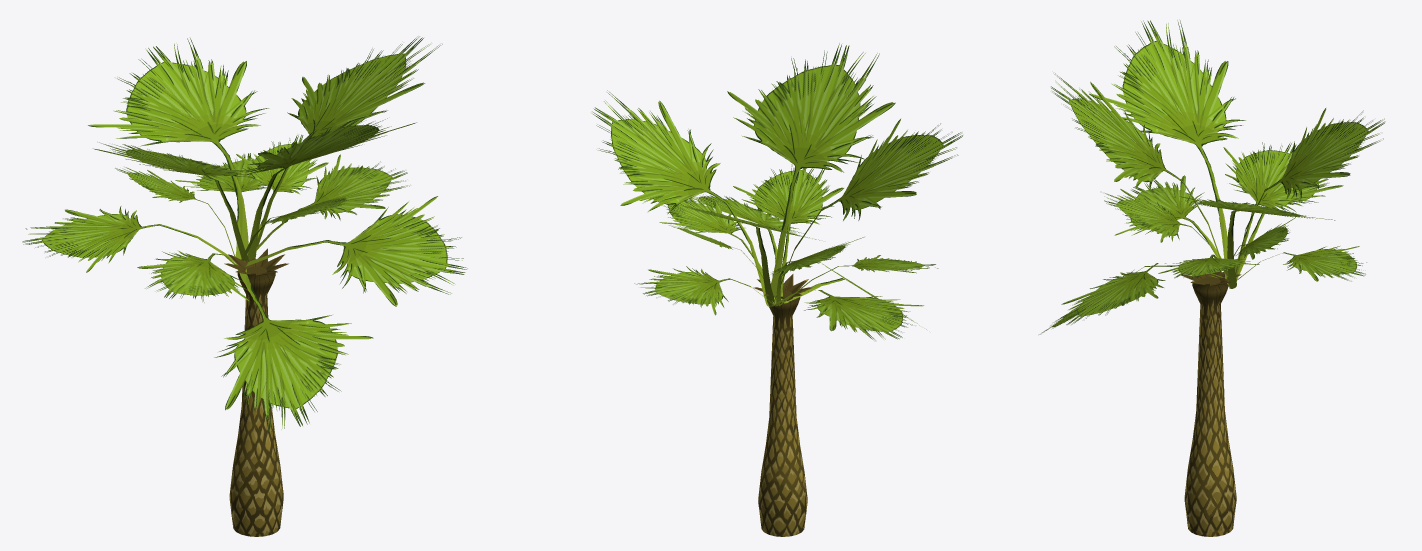
Rendered from palm-tree.FBX.
3 renders of one model, left to right at view 1: azimuth 30°, elevation 25°; view 2: azimuth 150°, elevation 25°; view 3: azimuth 270°, elevation 25°, orthographic. The views are drawn at different scales.
Visible parts, largest first — view 1: palm-tree-leafs, palm-tree-trunk; view 2: palm-tree-leafs, palm-tree-trunk; view 3: palm-tree-leafs, palm-tree-trunk.
Part boxes in pixels (box(x1,y1,x2,y2)): palm-tree-leafs: box(22, 36, 467, 435); palm-tree-trunk: box(224, 248, 288, 536); palm-tree-leafs: box(591, 43, 962, 340); palm-tree-trunk: box(753, 274, 812, 536); palm-tree-leafs: box(1039, 20, 1385, 334); palm-tree-trunk: box(1181, 267, 1241, 536).
Size of the model in its own units: 224 by 228 by 183.
